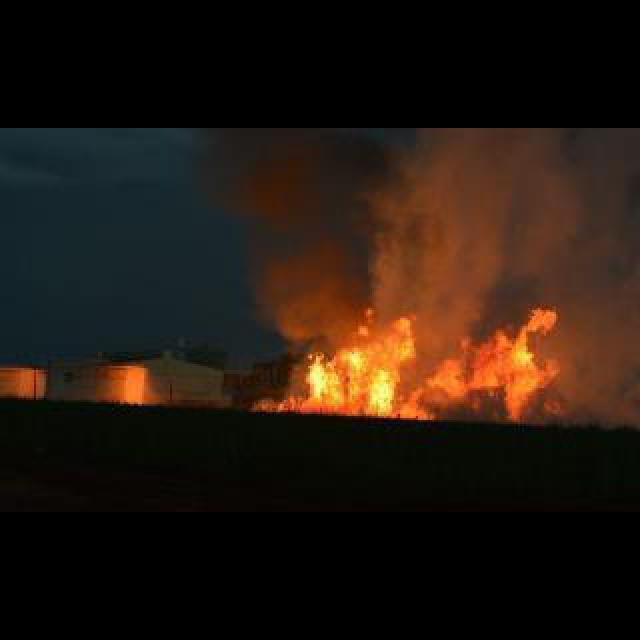Fire: (304, 306, 560, 421)
Smoke: (244, 126, 639, 312)
